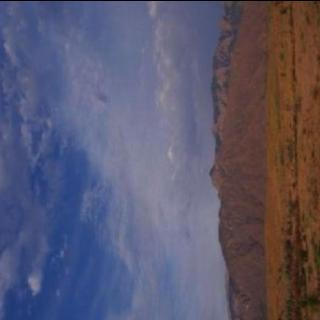Altocumulus: (0, 0, 226, 320)
